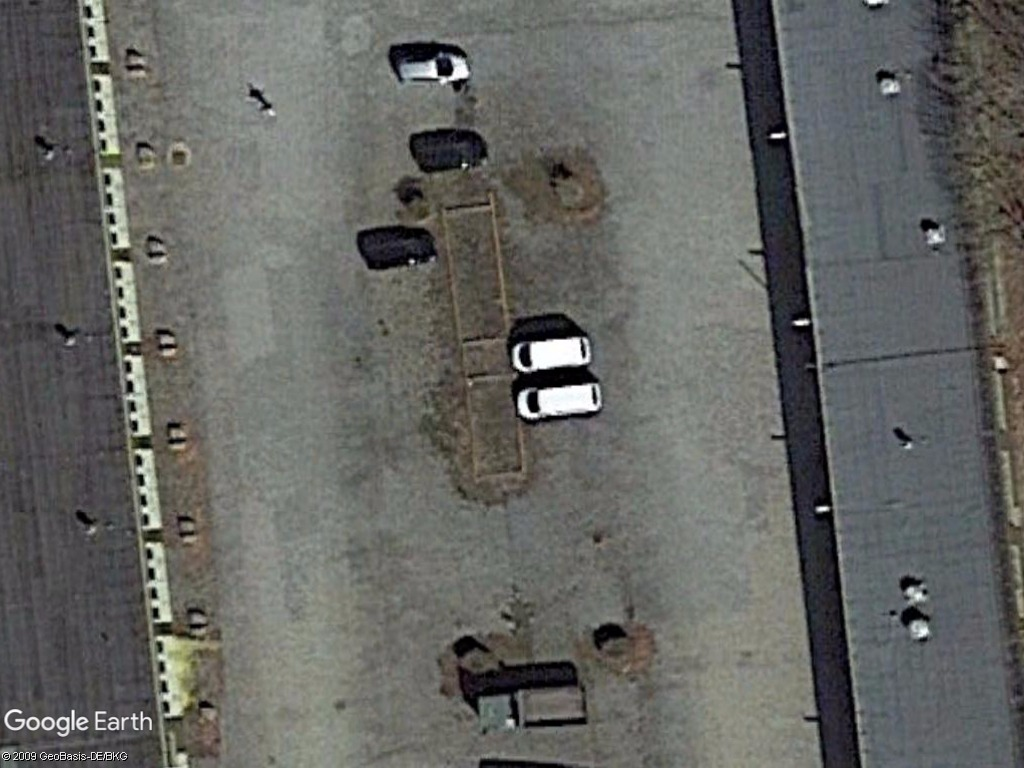car: (510, 380, 608, 425), (509, 332, 592, 375)
other: (470, 680, 594, 738)
van: (394, 50, 475, 90)
